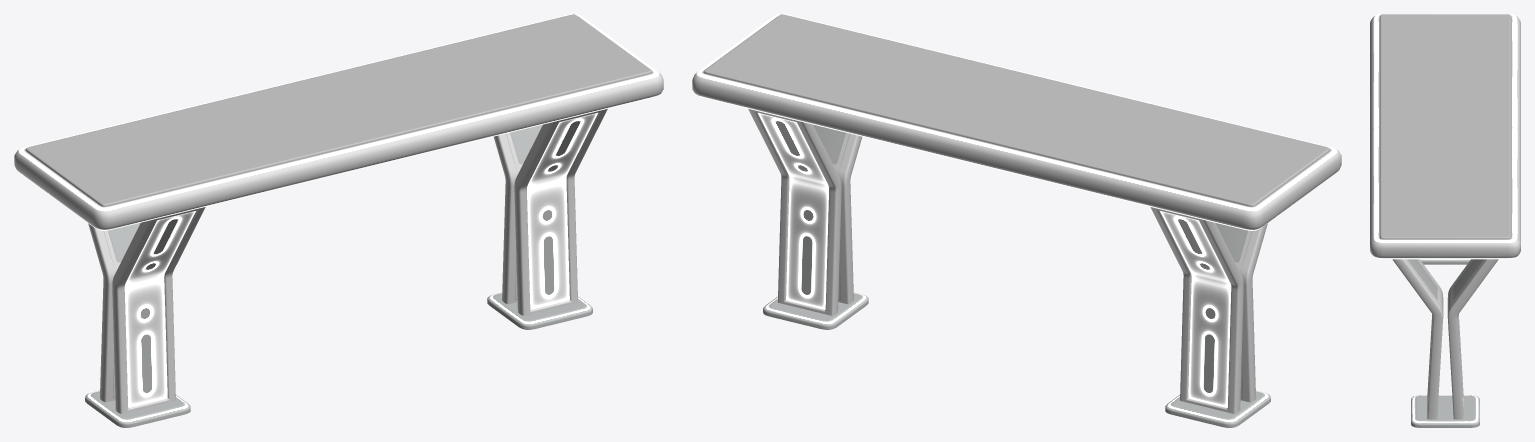
File: BarTable04_1.FBX
3 renders of one model, left to right at view 1: azimuth 30°, elevation 25°; view 2: azimuth 150°, elevation 25°; view 3: azimuth 270°, elevation 25°, orthographic. The views are drawn at different scales.
Parts seen in each view (by area): view 1: BarTable04_1; view 2: BarTable04_1; view 3: BarTable04_1.
Part boxes in pixels (x1,y1,x2,y2): BarTable04_1: (14, 14, 663, 427); BarTable04_1: (692, 14, 1341, 427); BarTable04_1: (1370, 14, 1520, 427).
Size of what is drawn, in the model's own units: 2.65 by 1.1 by 0.73.
